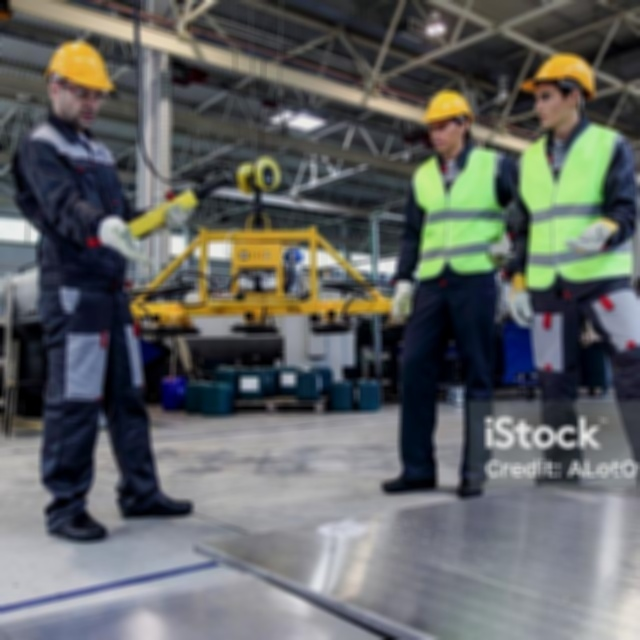Con_Chaleco: (519, 127, 636, 291), (408, 147, 508, 275)
